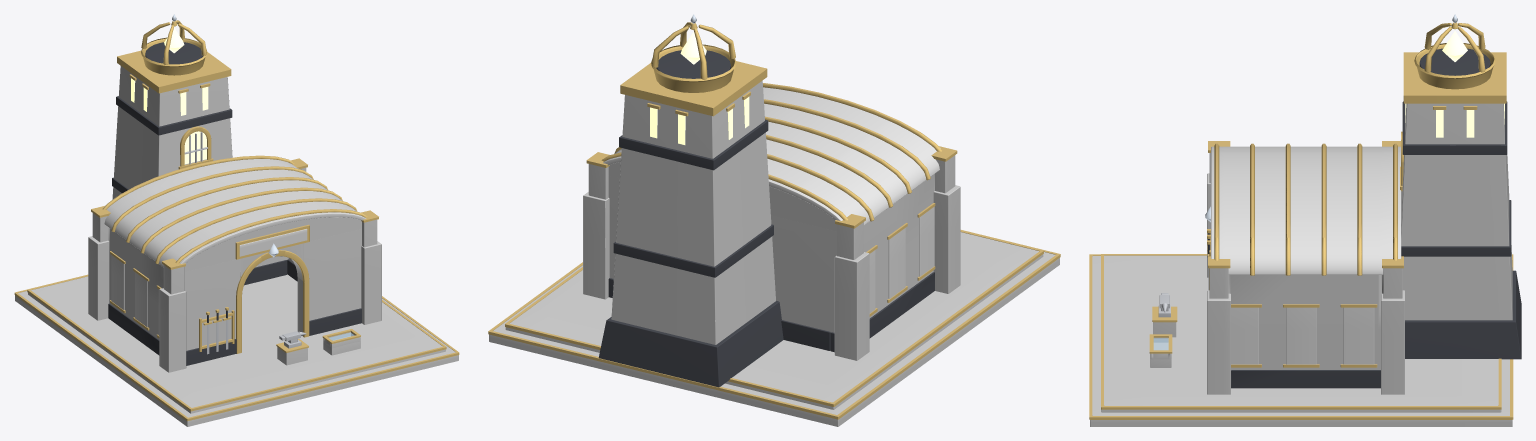
The model's file is Yggdrasil_Blacksmith.fbx.
3 renders of one model, left to right at view 1: azimuth 30°, elevation 25°; view 2: azimuth 150°, elevation 25°; view 3: azimuth 270°, elevation 25°, orthographic. The views are drawn at different scales.
Parts seen in each view (by area): view 1: HB_Blacksmith__Marble, HB_Blacksmith__Lapis, HB_Blacksmith__Gold, HB_Blacksmith__GoldFlat, HB_Blacksmith__Slate, HB_BlacksmithCore, HB_Blacksmith__Steel; view 2: HB_Blacksmith__Marble, HB_Blacksmith__Lapis, HB_Blacksmith__Slate, HB_Blacksmith__Gold, HB_Blacksmith__GoldFlat, HB_BlacksmithCore; view 3: HB_Blacksmith__Marble, HB_Blacksmith__Lapis, HB_Blacksmith__Slate, HB_Blacksmith__Gold, HB_Blacksmith__GoldFlat, HB_BlacksmithCore.
Boxes of the visible parts, x1=… form: HB_Blacksmith__Marble: x1=15, y1=66, x2=458, y2=426; HB_Blacksmith__Lapis: x1=104, y1=159, x2=366, y2=335; HB_Blacksmith__Gold: x1=14, y1=20, x2=459, y2=421; HB_Blacksmith__GoldFlat: x1=14, y1=21, x2=459, y2=418; HB_Blacksmith__Slate: x1=108, y1=42, x2=361, y2=365; HB_BlacksmithCore: x1=131, y1=28, x2=208, y2=164; HB_Blacksmith__Steel: x1=184, y1=132, x2=306, y2=354; HB_Blacksmith__Marble: x1=489, y1=80, x2=1059, y2=426; HB_Blacksmith__Lapis: x1=603, y1=87, x2=940, y2=313; HB_Blacksmith__Slate: x1=598, y1=50, x2=934, y2=387; HB_Blacksmith__Gold: x1=488, y1=22, x2=1060, y2=419; HB_Blacksmith__GoldFlat: x1=488, y1=23, x2=1060, y2=416; HB_BlacksmithCore: x1=650, y1=31, x2=749, y2=144; HB_Blacksmith__Marble: x1=1090, y1=103, x2=1512, y2=426; HB_Blacksmith__Lapis: x1=1211, y1=146, x2=1401, y2=364; HB_Blacksmith__Slate: x1=1208, y1=48, x2=1521, y2=388; HB_Blacksmith__Gold: x1=1089, y1=23, x2=1513, y2=419; HB_Blacksmith__GoldFlat: x1=1089, y1=22, x2=1513, y2=417; HB_BlacksmithCore: x1=1405, y1=31, x2=1504, y2=137.
Bounding box in the file's own units: 40.1 × 38.09 × 44.97.
